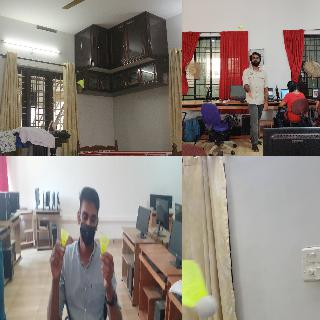shuttlecock: (182, 259, 218, 317), (98, 232, 109, 256), (61, 229, 69, 253), (76, 79, 84, 87), (236, 24, 242, 30)
